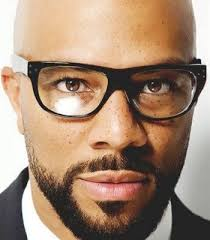b.y: (61, 152, 159, 240)
